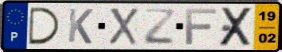D: (27, 6, 62, 46)
F: (184, 8, 219, 46)
K: (66, 7, 95, 45)
X: (217, 6, 255, 48), (108, 7, 140, 47)
Z: (143, 7, 177, 46)
